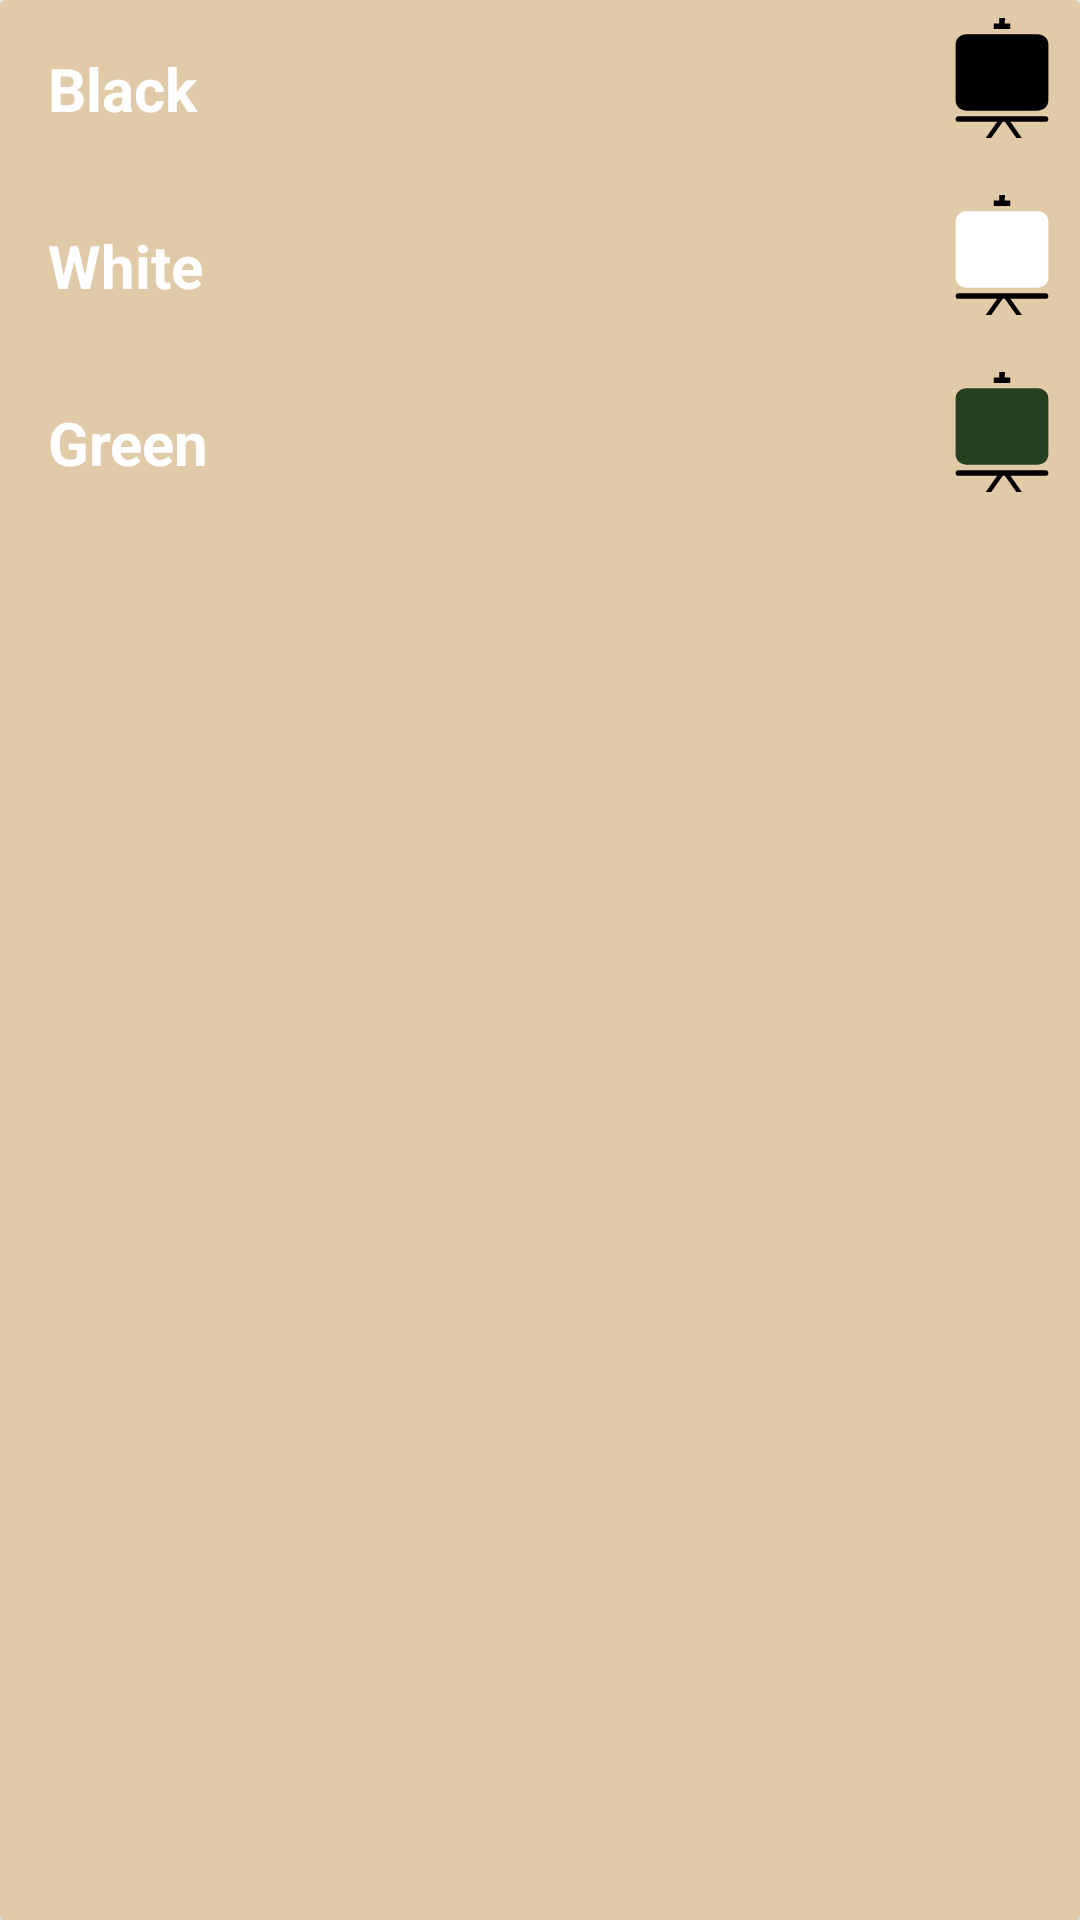

Icon bounding boxes for this 1080×1920 phone screenshot, format BBox(x1, y1, x2, y2):
slate: BBox(955, 18, 1049, 138), BBox(955, 195, 1049, 315), BBox(955, 372, 1049, 492)
